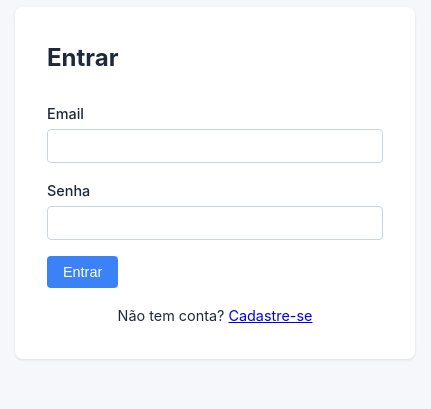
Login page › exibe erro quando as credenciais são inválidas
Type "a@b.com" into the field labelled "Email" at (215, 146), box [47,129,383,163]
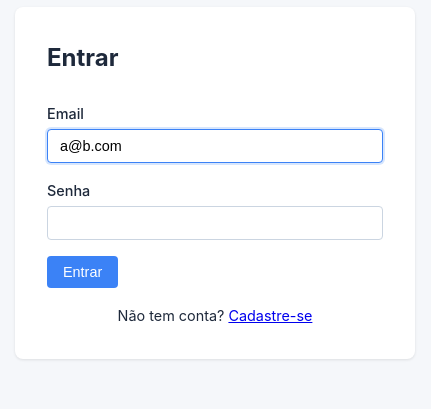
Type "errada" into the password field labelled "Senha" at (215, 223), box [47,206,383,240]
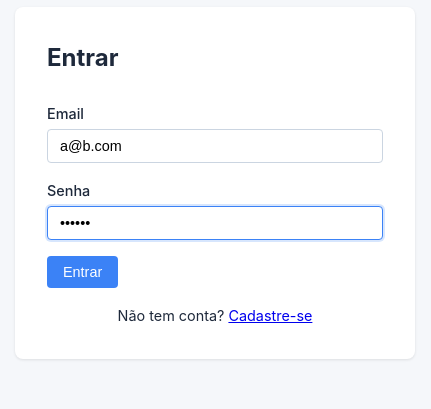
Click the button "Entrar" at (83, 272), box [47,256,118,288]
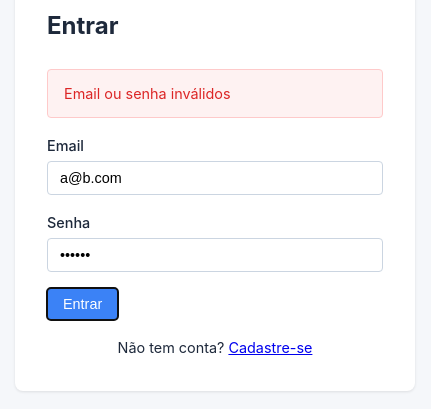
Now the text "Email ou senha inválidos" is shown, box [47,69,383,118]
